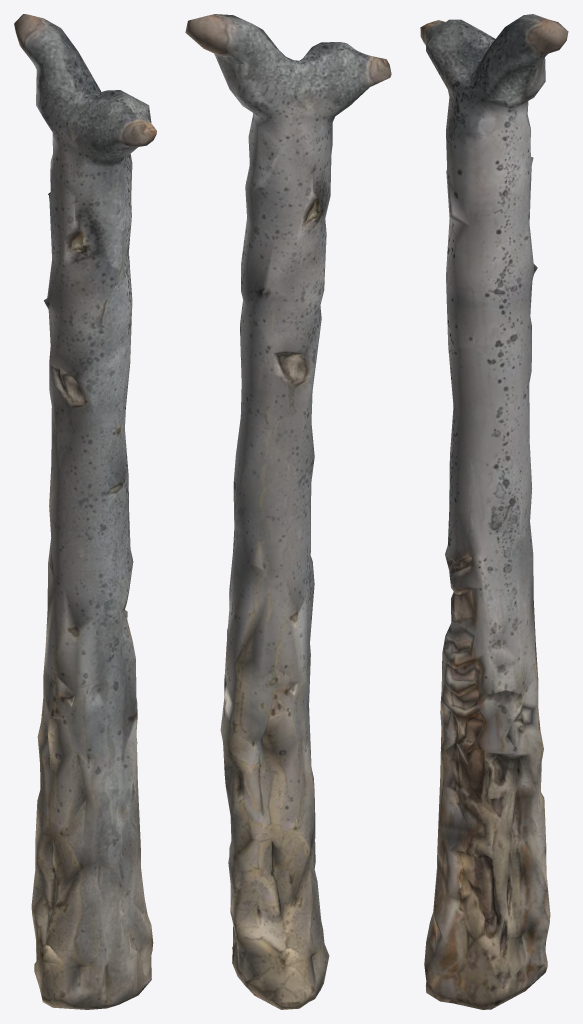
Rendered from dead-trunk.glb.
3 views of the same model, side by side, from view 1: azimuth 90°, elevation 25°; view 2: azimuth 150°, elevation 25°; view 3: azimuth 270°, elevation 25° (orthographic). The views are drawn at different scales.
Visible parts, largest first — view 1: dead_quiver_trunk_LOD0; view 2: dead_quiver_trunk_LOD0; view 3: dead_quiver_trunk_LOD0.
Part boxes in pixels (x1,y1,x2,y2): dead_quiver_trunk_LOD0: (14, 14, 156, 1009); dead_quiver_trunk_LOD0: (185, 14, 391, 1009); dead_quiver_trunk_LOD0: (420, 14, 568, 1009).
Size of the model in its own units: 0.3052 by 1.99 by 0.2682.
Materials: 1 (1 with a texture image).
